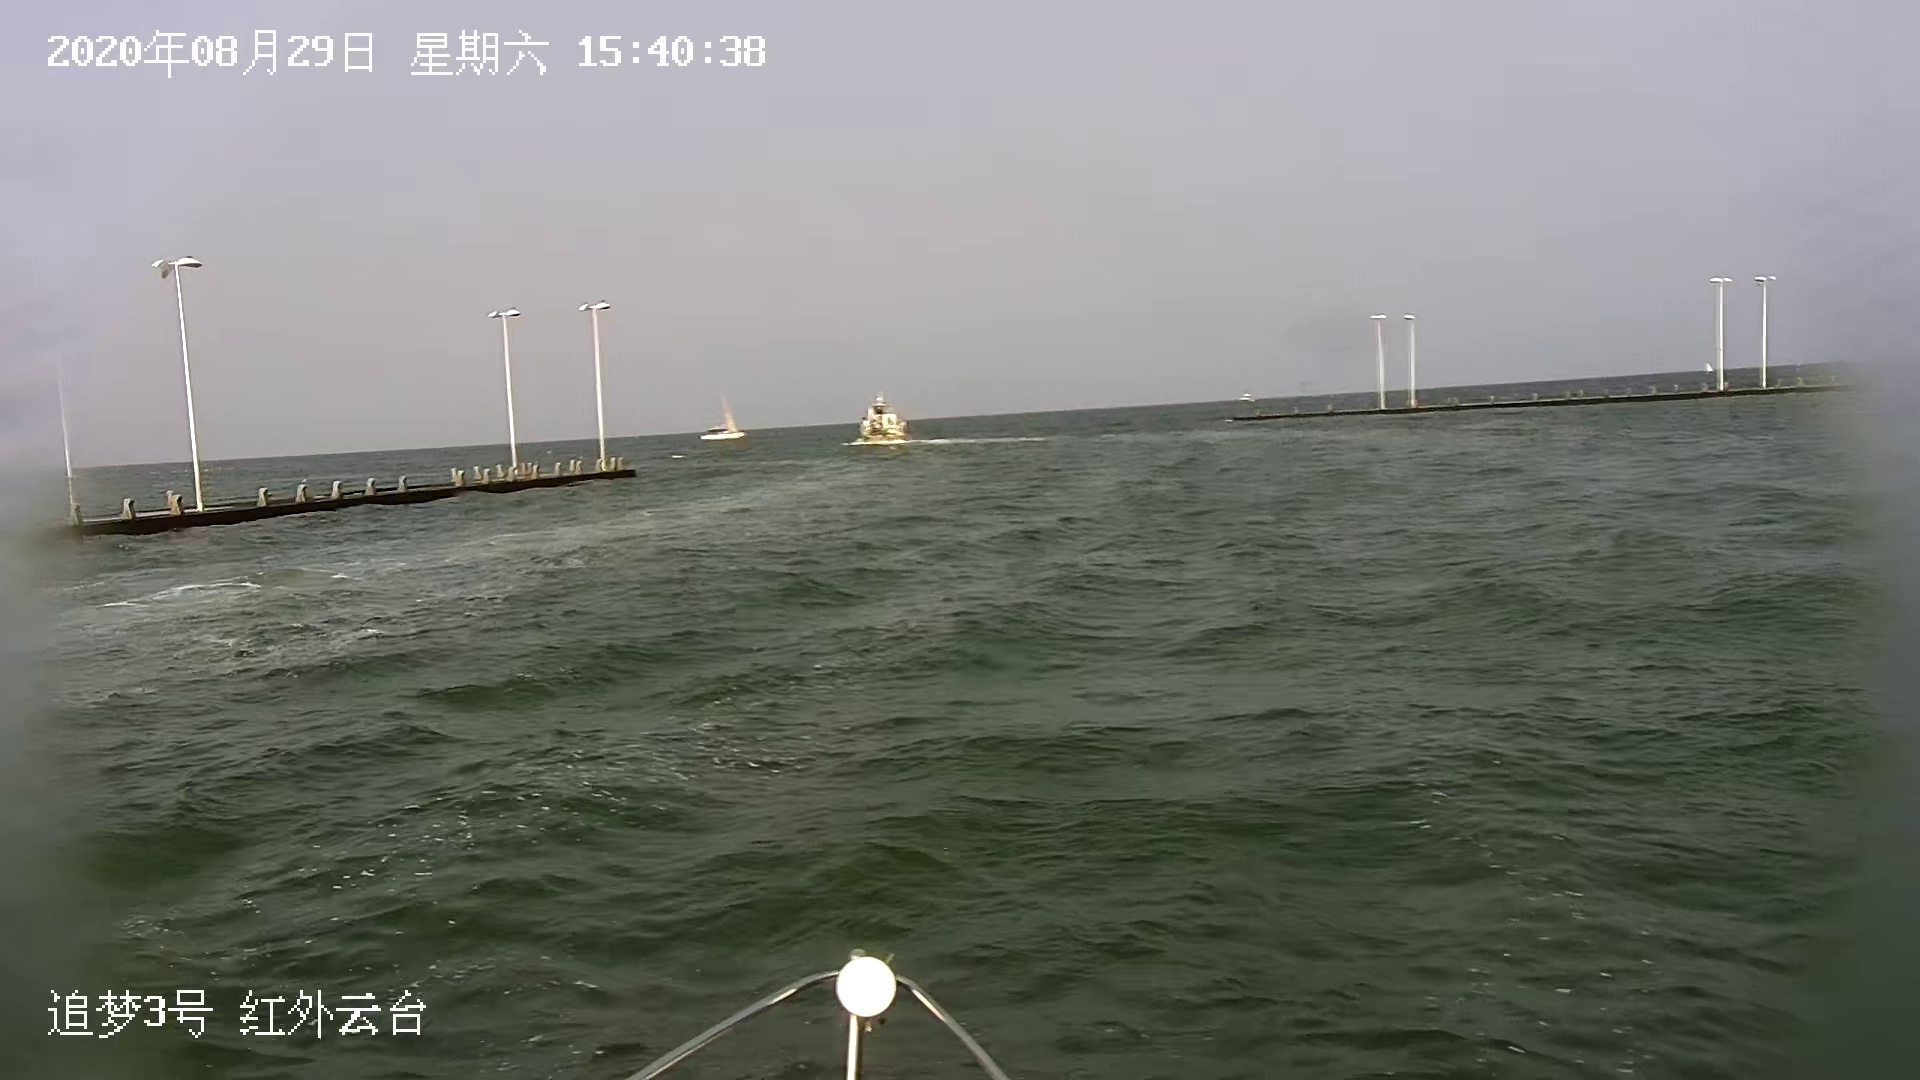barrier: (845, 394, 916, 450), (694, 397, 752, 442), (1238, 389, 1259, 404), (1704, 361, 1714, 375)
coast: (38, 251, 637, 541), (1217, 270, 1920, 429)
